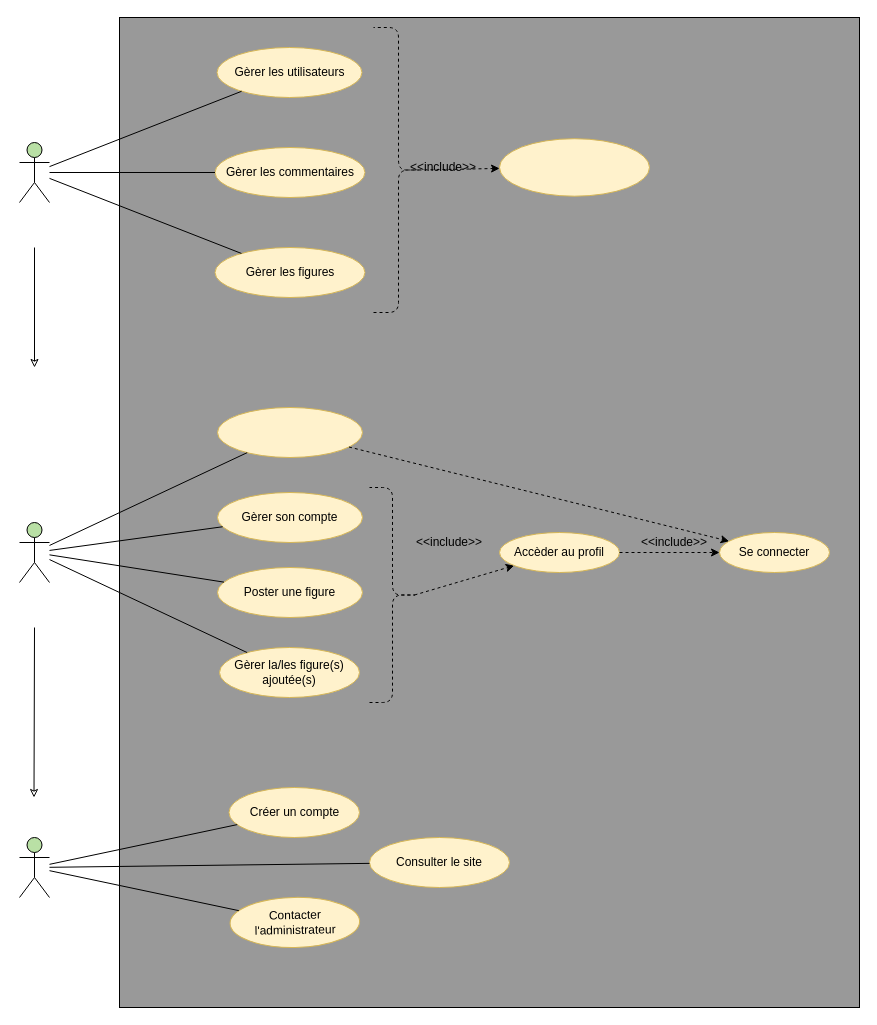
This 877x1025 diagram has some shape labels left out. The shapes that lost their labels are listed below. From the top down, each one's centre as x and y in pixels, then its label:
the point at 34,172: Admin
the point at 574,167: Accèder au panneau d'administration
the point at 289,432: Ecrire un commentaire
the point at 34,552: User
the point at 34,867: Visitor
